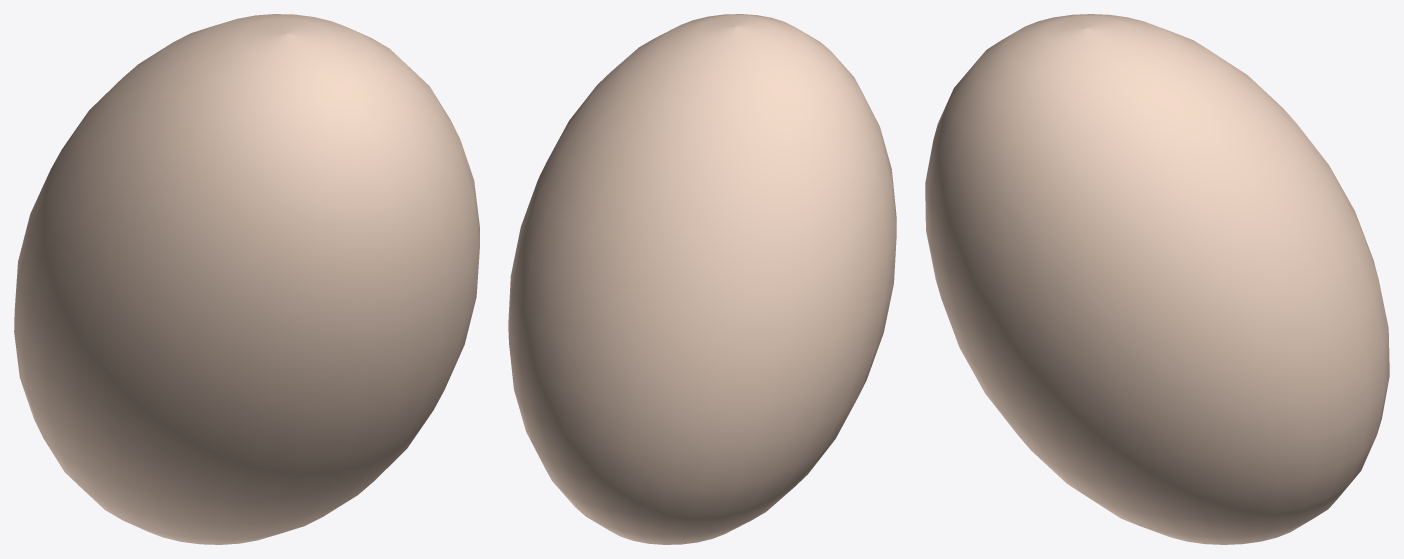
File: male_nose_ref01_v5.glb
The picture shows the model from 3 angles, left to right: view 1: azimuth 30°, elevation 25°; view 2: azimuth 150°, elevation 25°; view 3: azimuth 270°, elevation 25°; orthographic projection. The views are drawn at different scales.
Visible parts, largest first — view 1: Nose_Tip; view 2: Nose_Tip; view 3: Nose_Tip.
Boxes of the visible parts, x1,y1,x2,y2 form: Nose_Tip: (14, 14, 479, 544); Nose_Tip: (508, 14, 896, 544); Nose_Tip: (925, 14, 1389, 544).
Bounding box in the file's own units: 0.03 × 0.04 × 0.0335.
